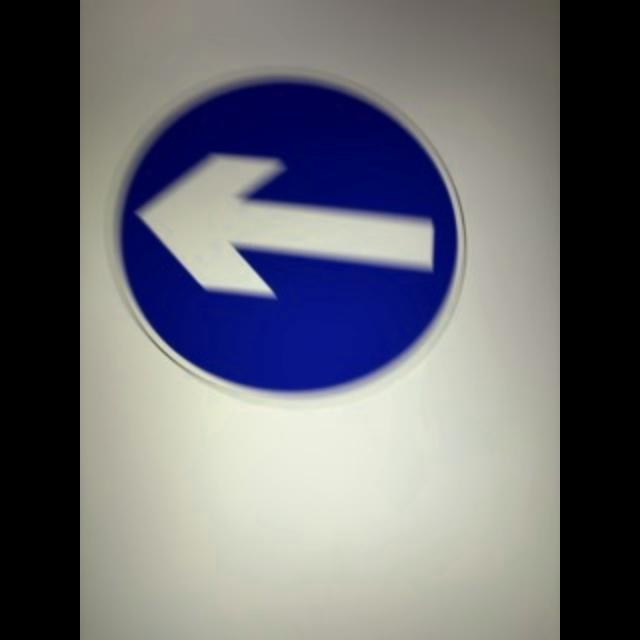TURN LEFT: (103, 68, 464, 408)
